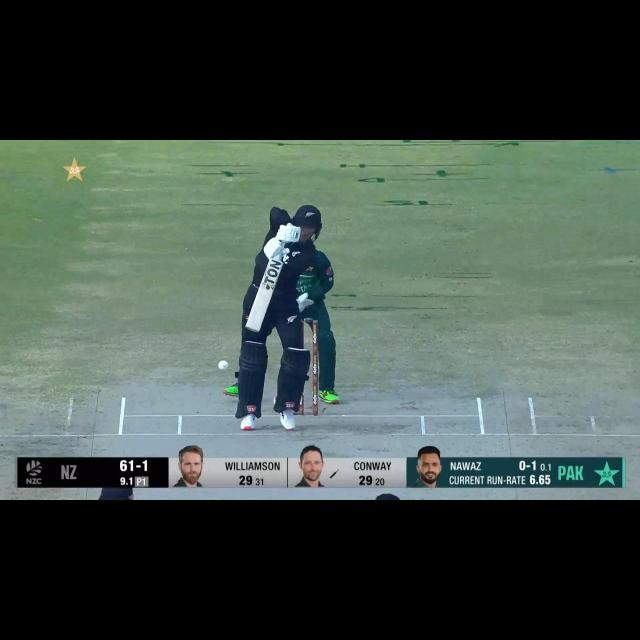bat: (242, 254, 286, 334)
toe: (240, 304, 268, 343)
